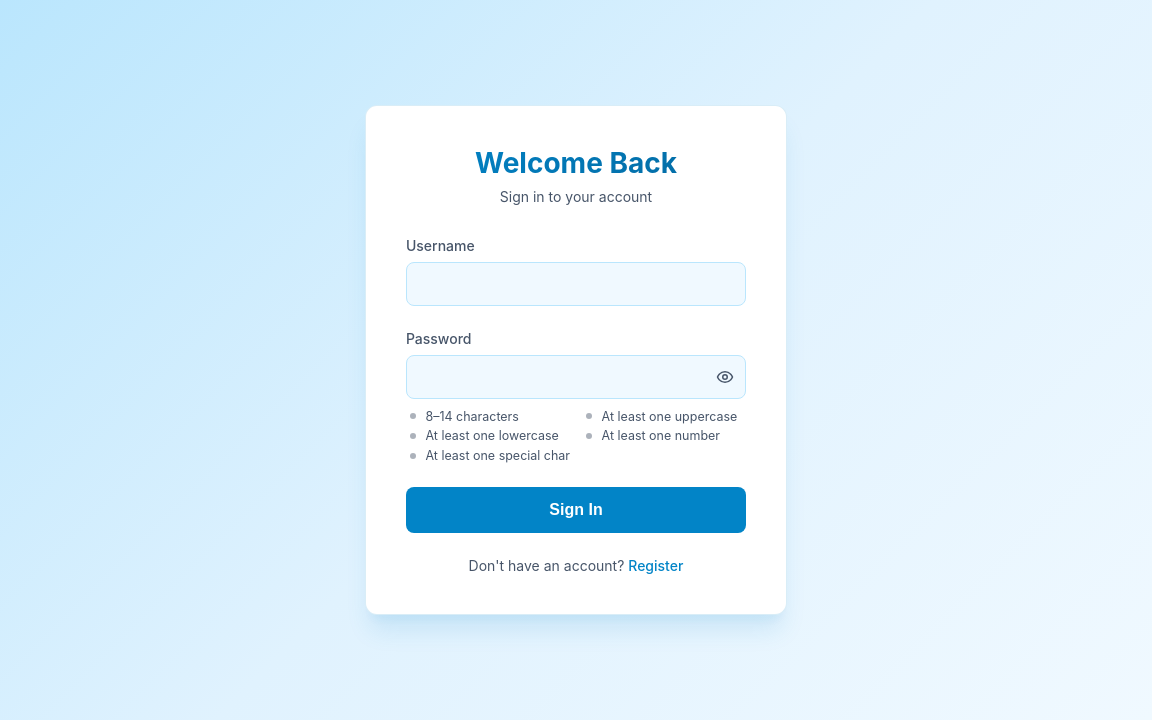
Login page › shows error when password does not meet requirements
Type "user" into the field labelled "Username" at (576, 284), box [406,262,746,306]
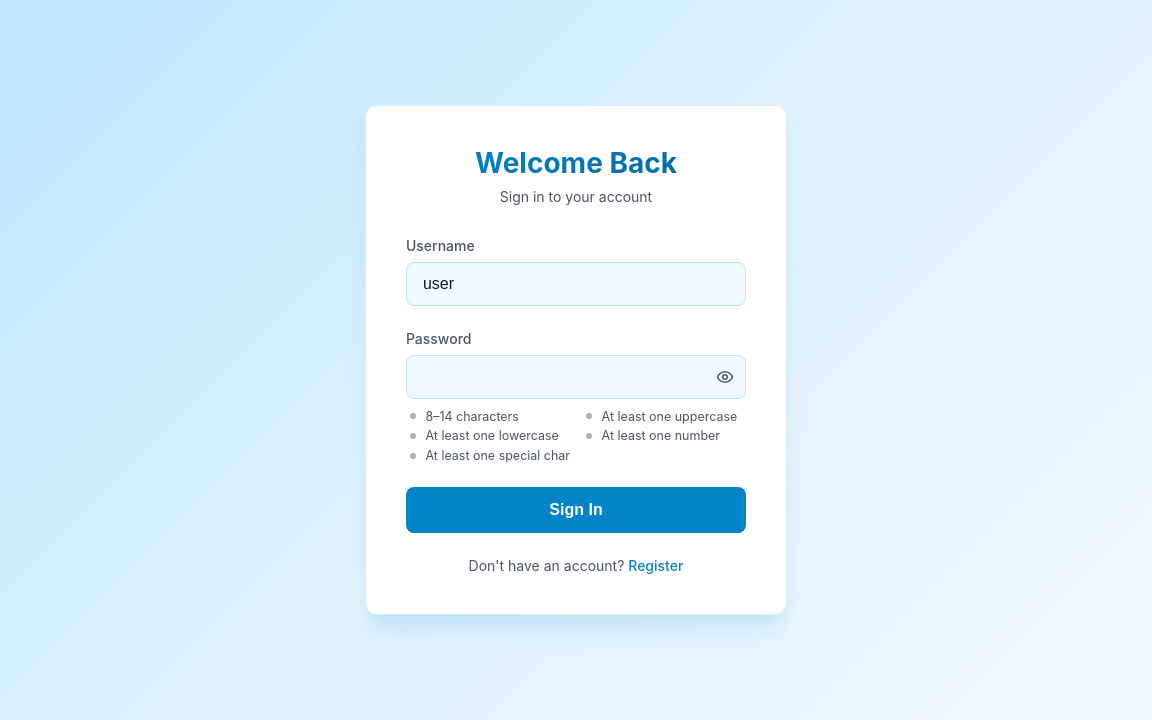
Type "weak" into the password field labelled "Password" at (576, 377), box [406,355,746,399]
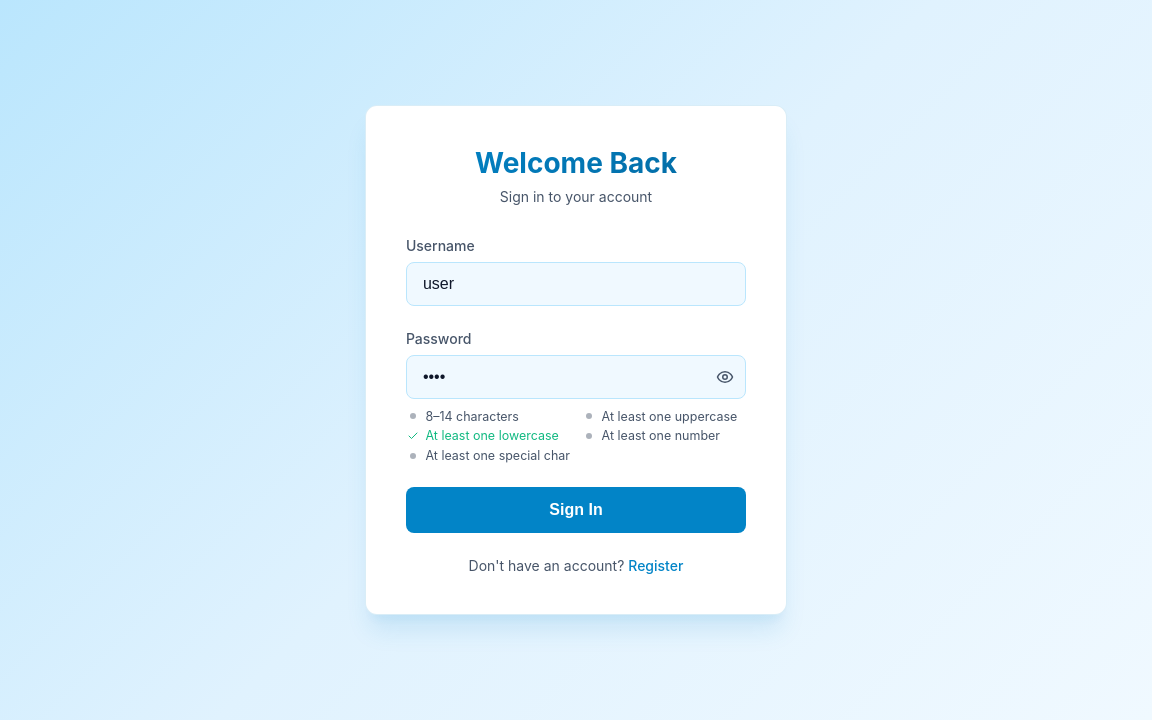
Click the button "Sign In" at (576, 510), box [406,487,746,533]
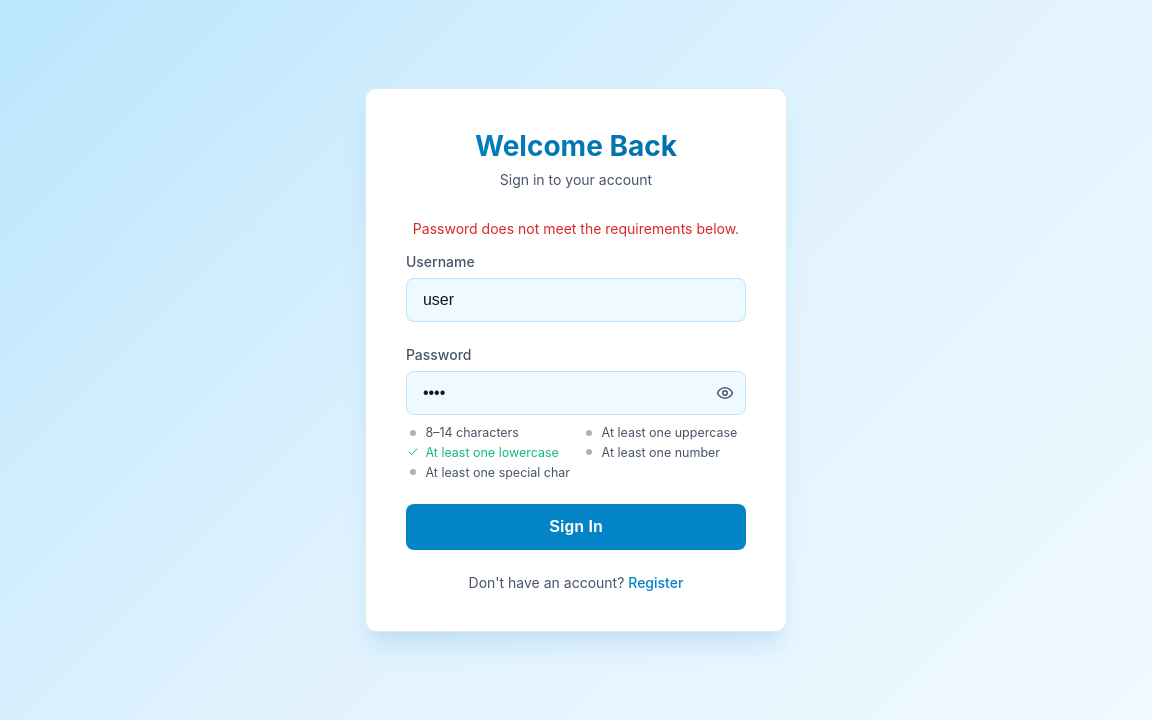
Expected: the text "Password does not meet the requirements below." is shown, [406,220,746,237]
